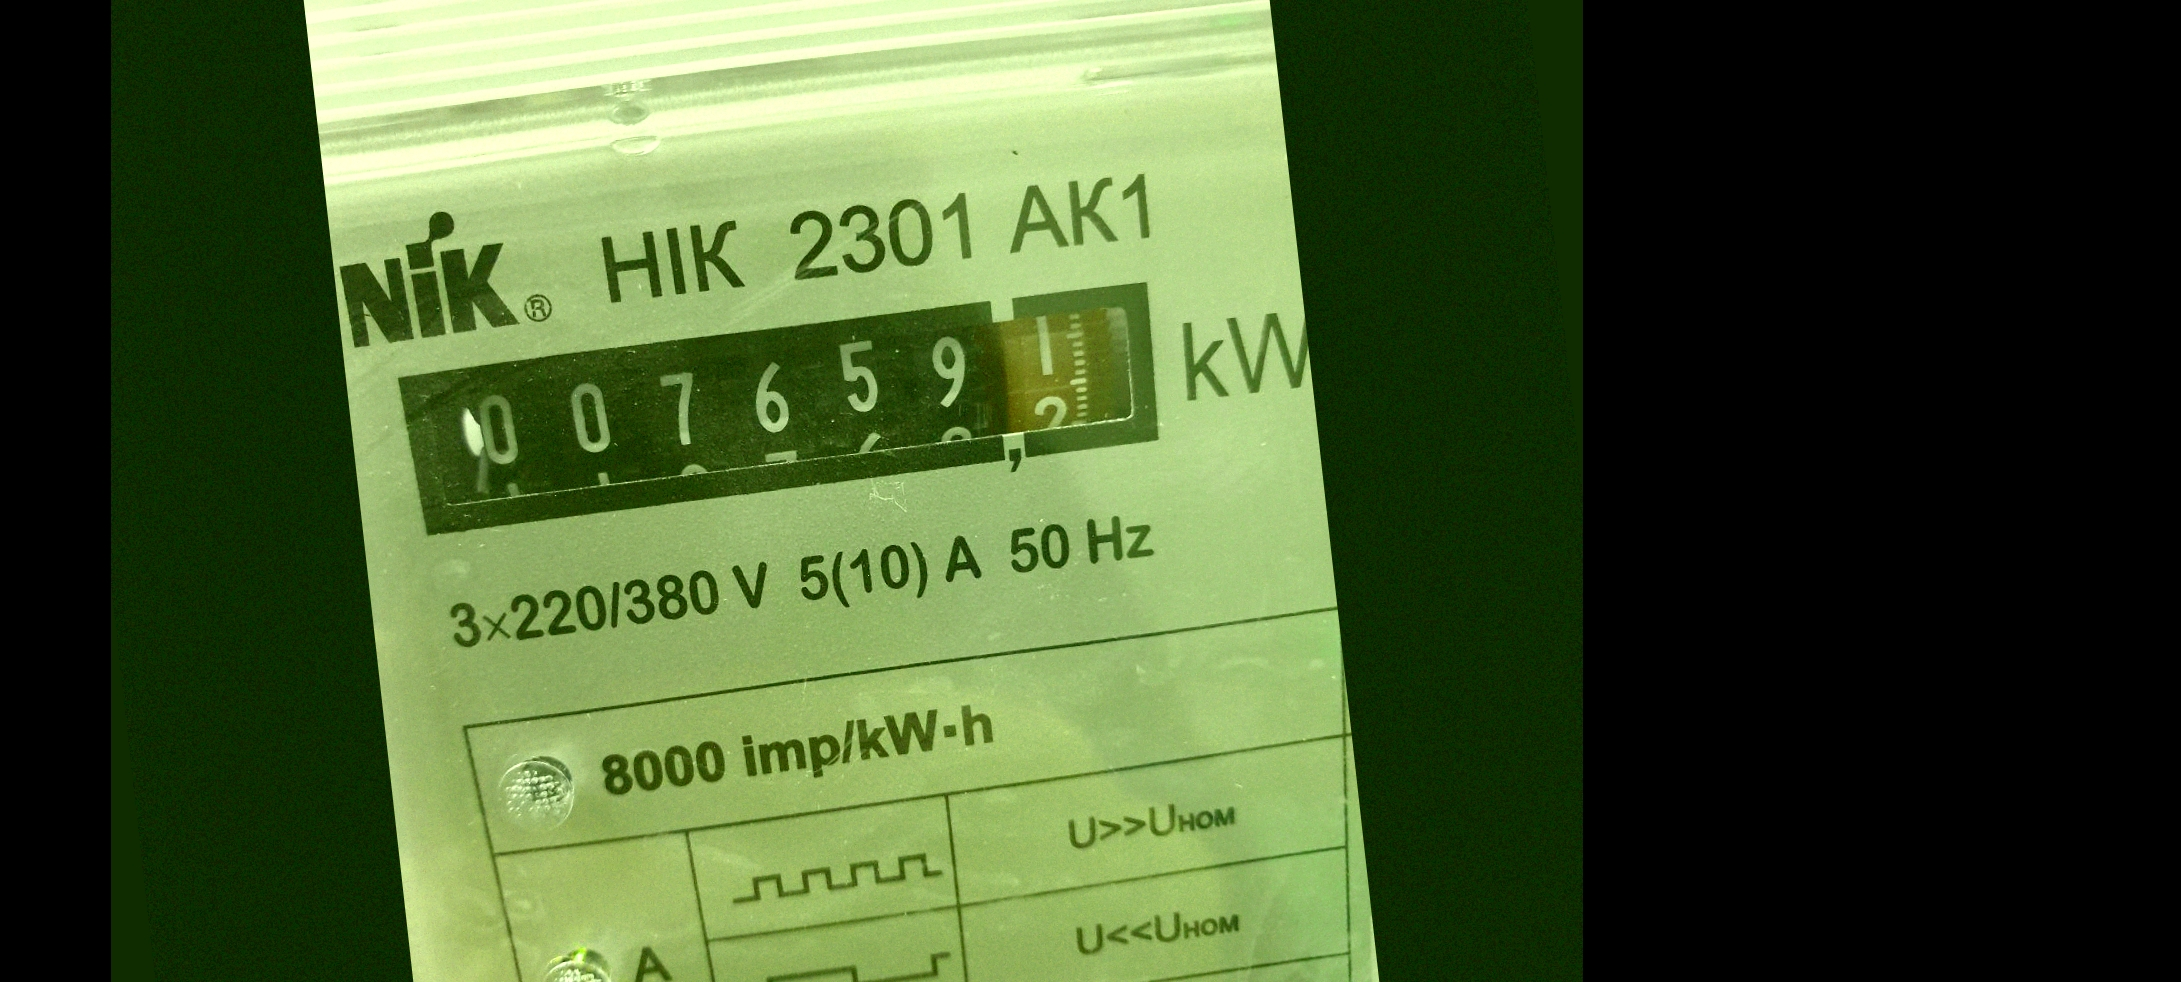0: (556, 371, 620, 462), (469, 383, 529, 477)
1: (1027, 306, 1068, 385)
5: (832, 332, 886, 419)
6: (740, 352, 800, 440)
7: (654, 364, 705, 453)
9: (924, 325, 976, 419)
screen: (376, 257, 1189, 559)
